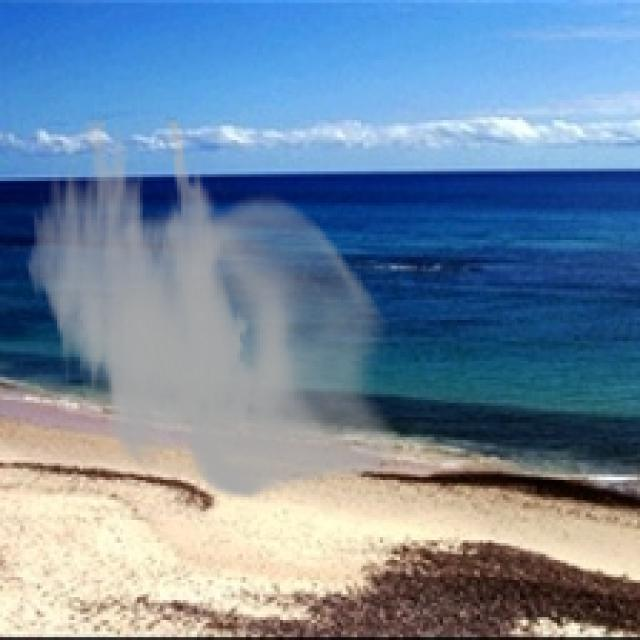Smoke: (22, 117, 398, 500)
